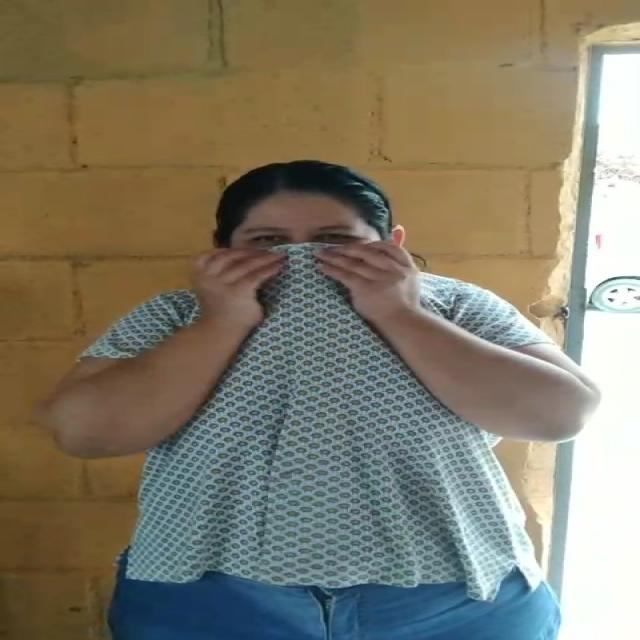8_ropa_rostro: (184, 242, 418, 366)
